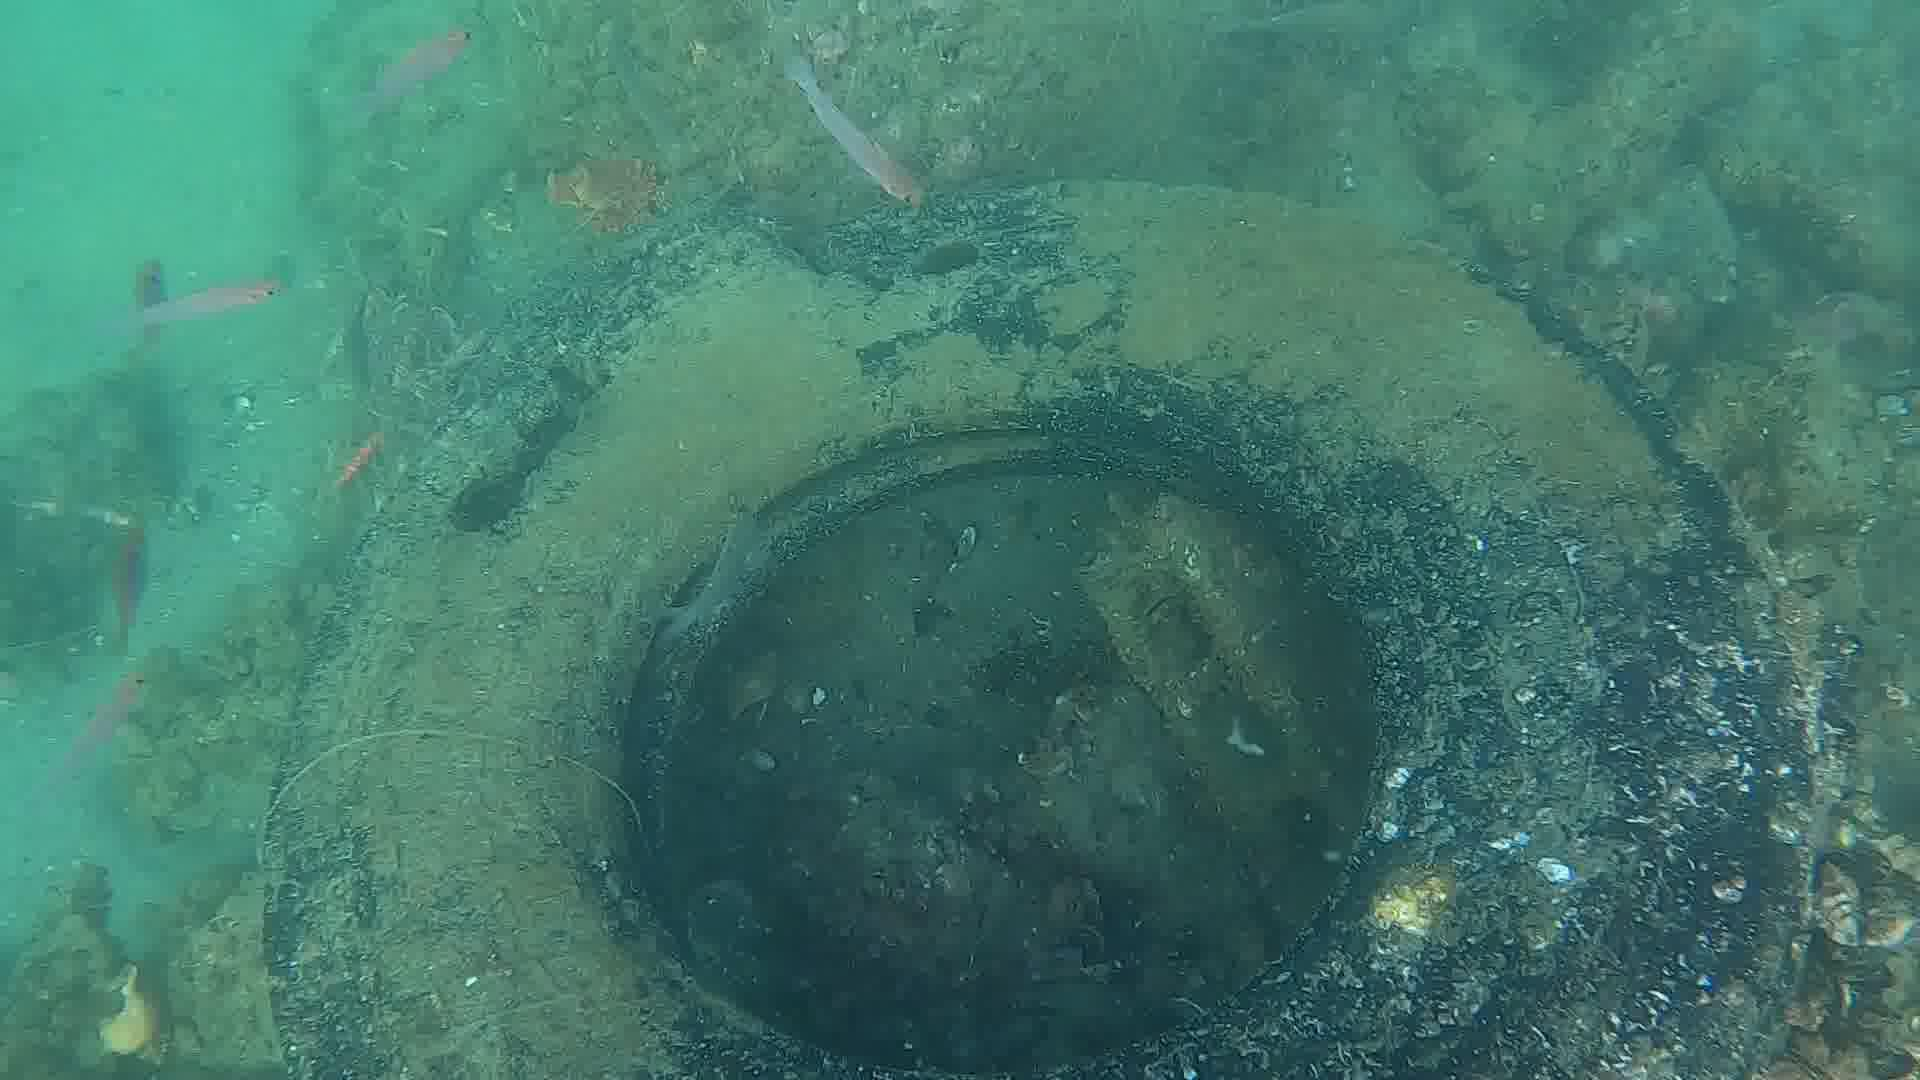tire: (255, 179, 1824, 1080)
